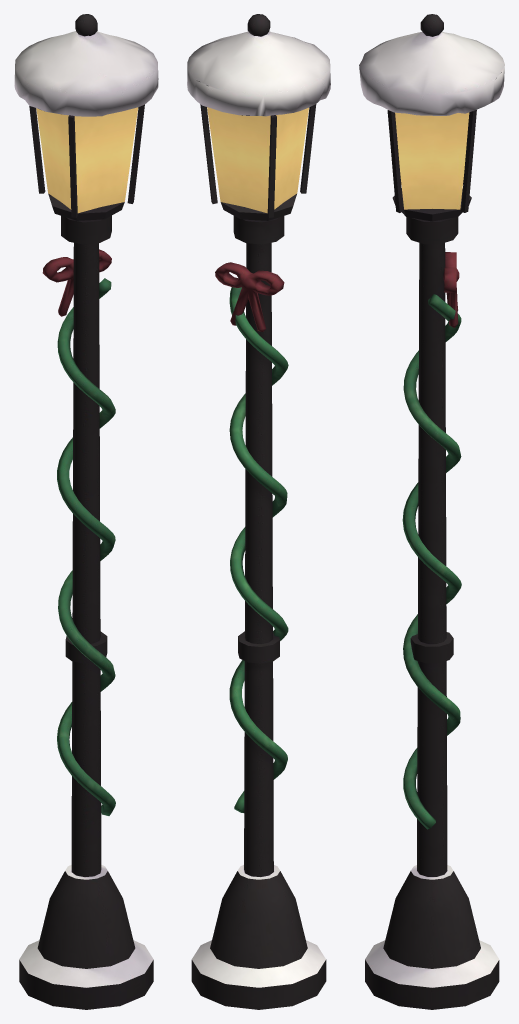
The model's file is lamp_post.glb.
3 views of the same model, side by side, from view 1: azimuth 30°, elevation 25°; view 2: azimuth 150°, elevation 25°; view 3: azimuth 270°, elevation 25° (orthographic).
Parts seen in each view (by area): view 1: Pole, Base, SnowCap, Glass, Garland, Lantern, Bow; view 2: Pole, Base, SnowCap, Glass, Garland, Lantern, Bow; view 3: Pole, Base, SnowCap, Garland, Glass, Lantern, Bow.
Boxes of the visible parts, left/top/right/bottom form: Pole: left=61, top=215, right=111, bottom=876; Base: left=19, top=865, right=153, bottom=1009; SnowCap: left=14, top=31, right=158, bottom=116; Glass: left=36, top=107, right=138, bottom=213; Garland: left=57, top=278, right=115, bottom=815; Lantern: left=29, top=14, right=144, bottom=220; Bow: left=42, top=249, right=111, bottom=316; Pole: left=233, top=216, right=284, bottom=876; Base: left=191, top=865, right=326, bottom=1009; SnowCap: left=187, top=31, right=330, bottom=116; Glass: left=207, top=107, right=308, bottom=213; Garland: left=229, top=287, right=288, bottom=812; Lantern: left=200, top=14, right=316, bottom=220; Bow: left=215, top=262, right=284, bottom=331; Pole: left=406, top=217, right=458, bottom=876; Base: left=365, top=865, right=499, bottom=1009; SnowCap: left=359, top=31, right=504, bottom=115; Garland: left=402, top=294, right=461, bottom=829; Glass: left=395, top=112, right=469, bottom=209; Lantern: left=387, top=14, right=476, bottom=221; Bow: left=443, top=252, right=459, bottom=327.
Bounding box in the file's own units: 0.4707 × 3.49 × 0.4771.
2 materials, 2 textured.
